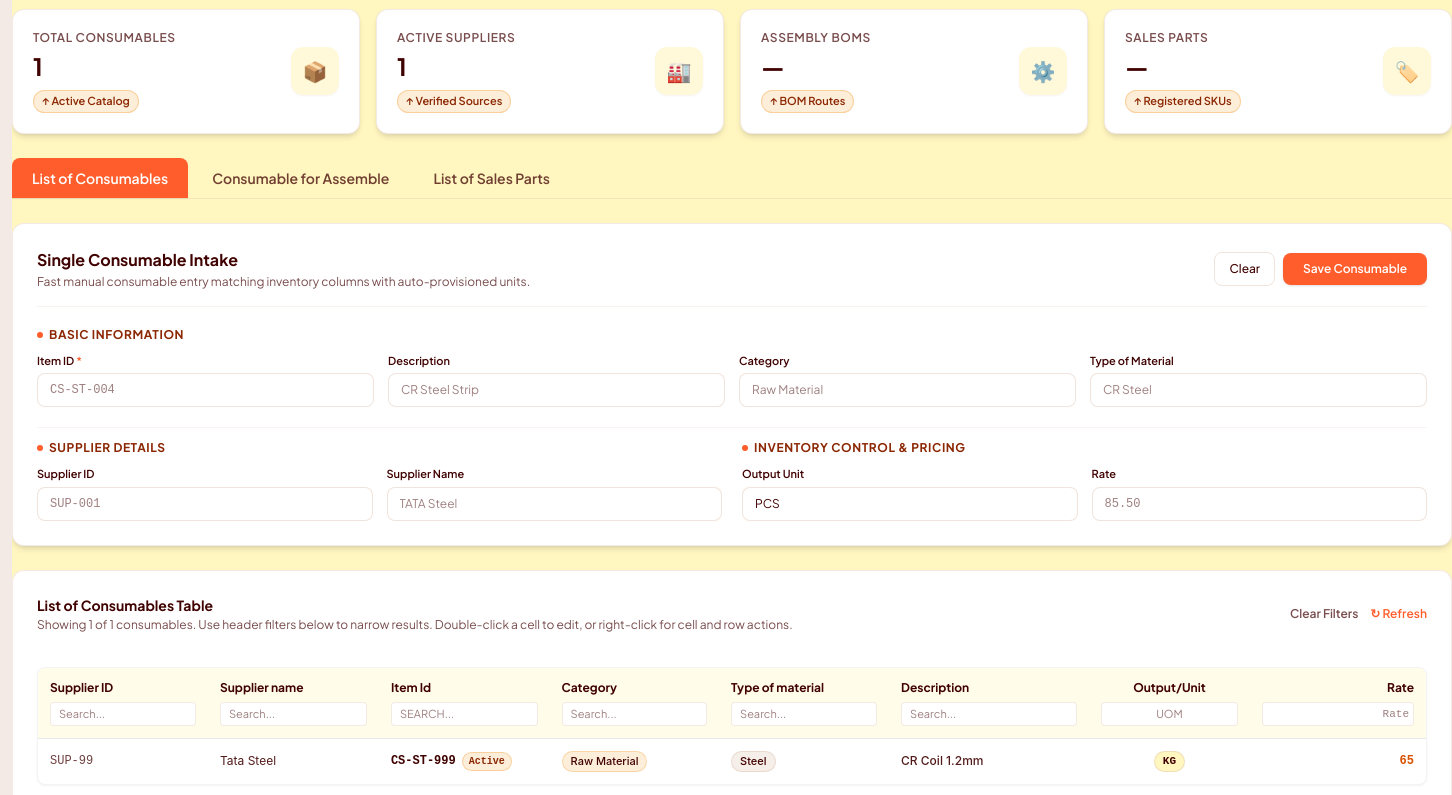
Test case: edit row stays in the consumables table and saves only the changed fields
(page scrolled)
Right-click the text "CS-ST-999" at (423, 762), box [391,754,456,770]
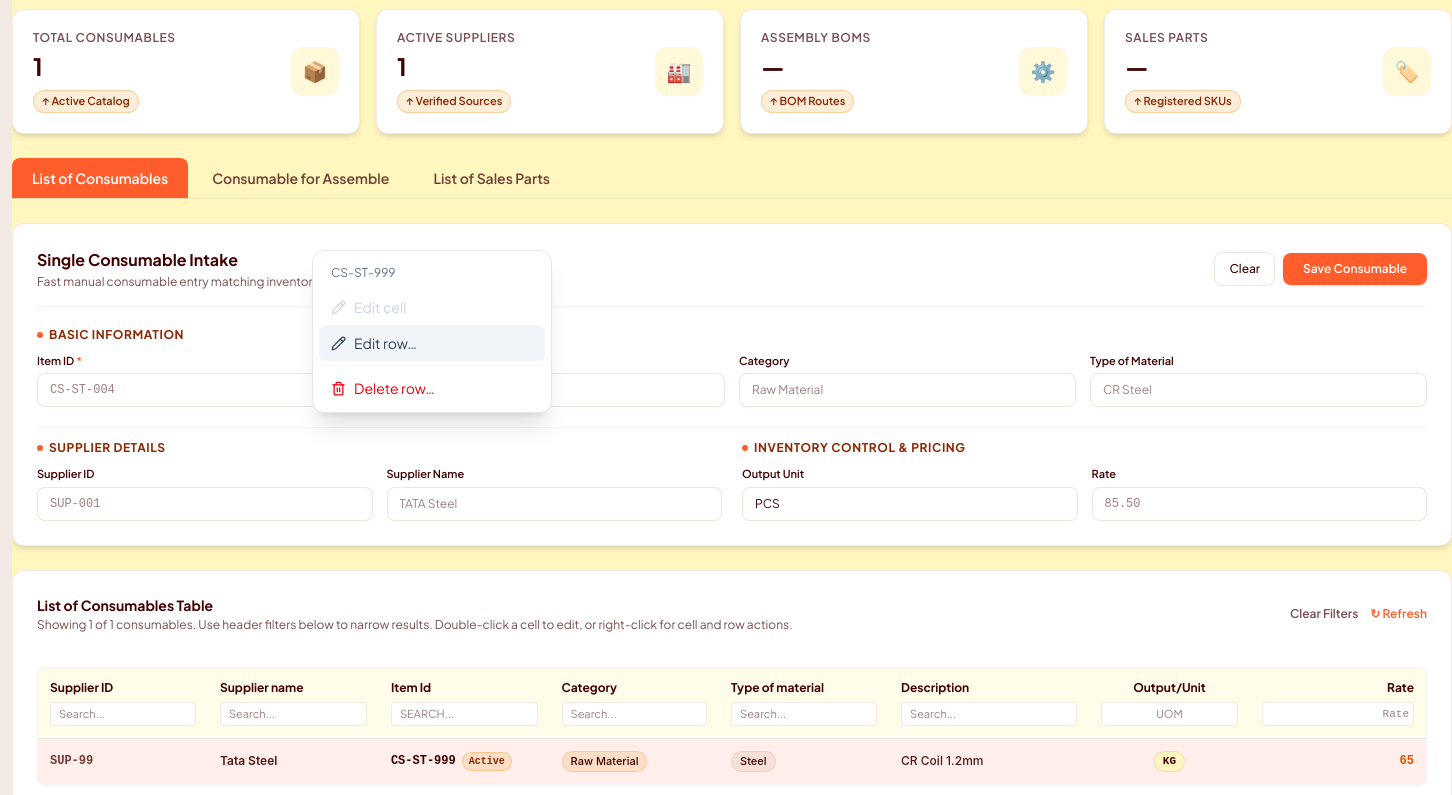
Click the menu item "Edit row…" at (432, 343), box [319,325,545,361]
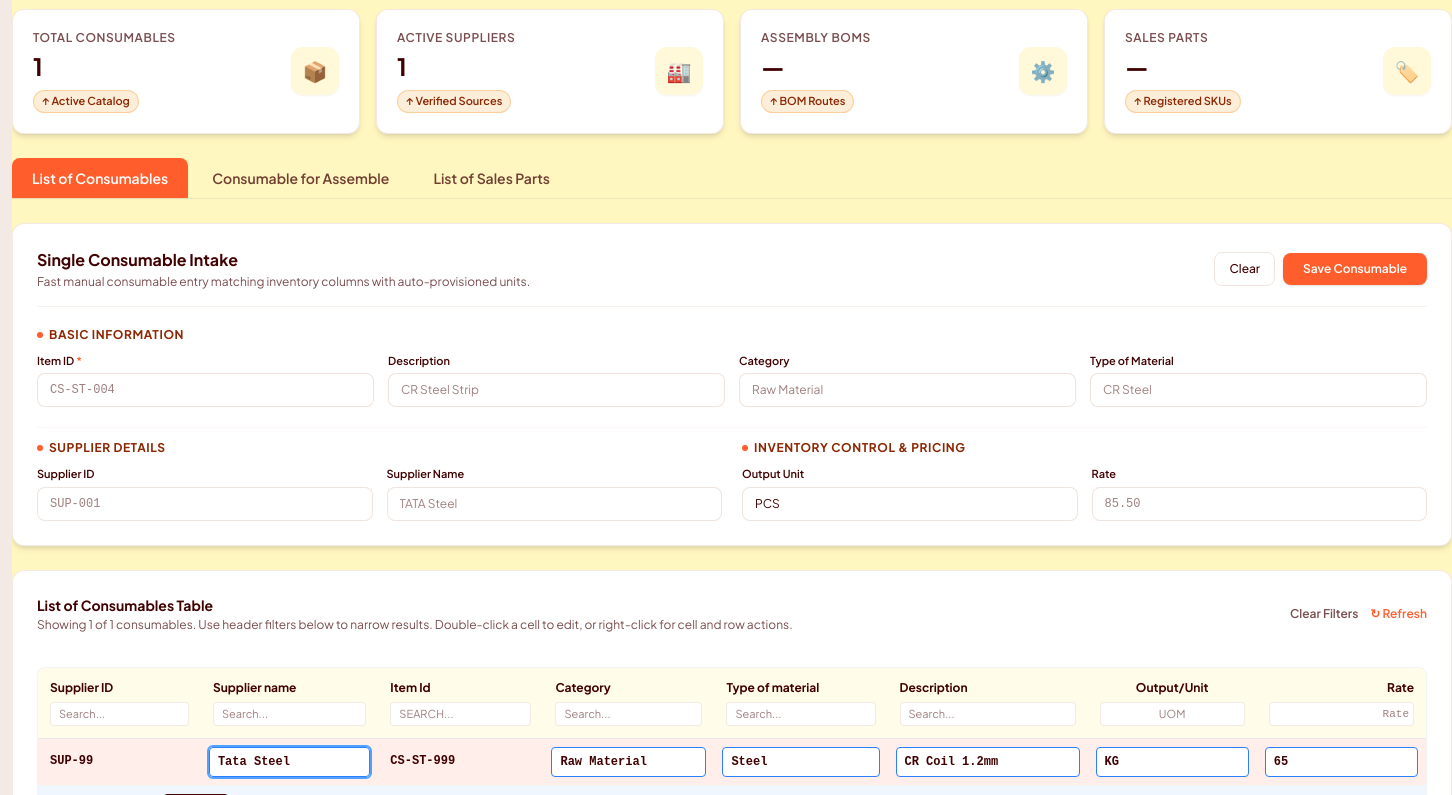
Expected: the row named "Edit Description" shows "CS-ST-999", [390,754,455,768]
Expected: the button "Save Consumable" is shown, [1283,252,1427,284]
Replace the text in the field named "Edit Description" with "Updated in this row" at (988, 762), box [896,747,1080,777]
(page scrolled)
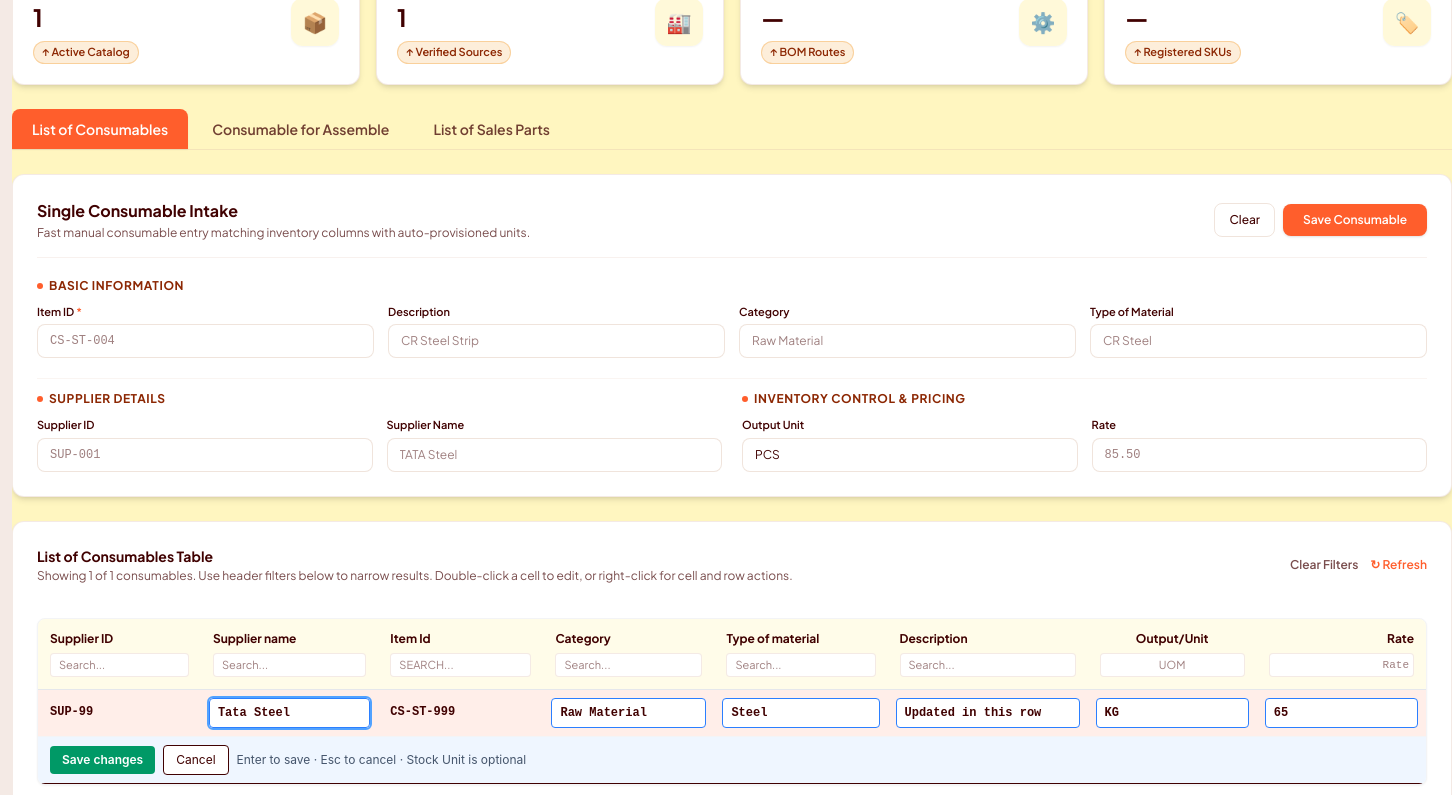
Click the button "Save changes" at (103, 760), box [50,746,155,774]
(page scrolled)
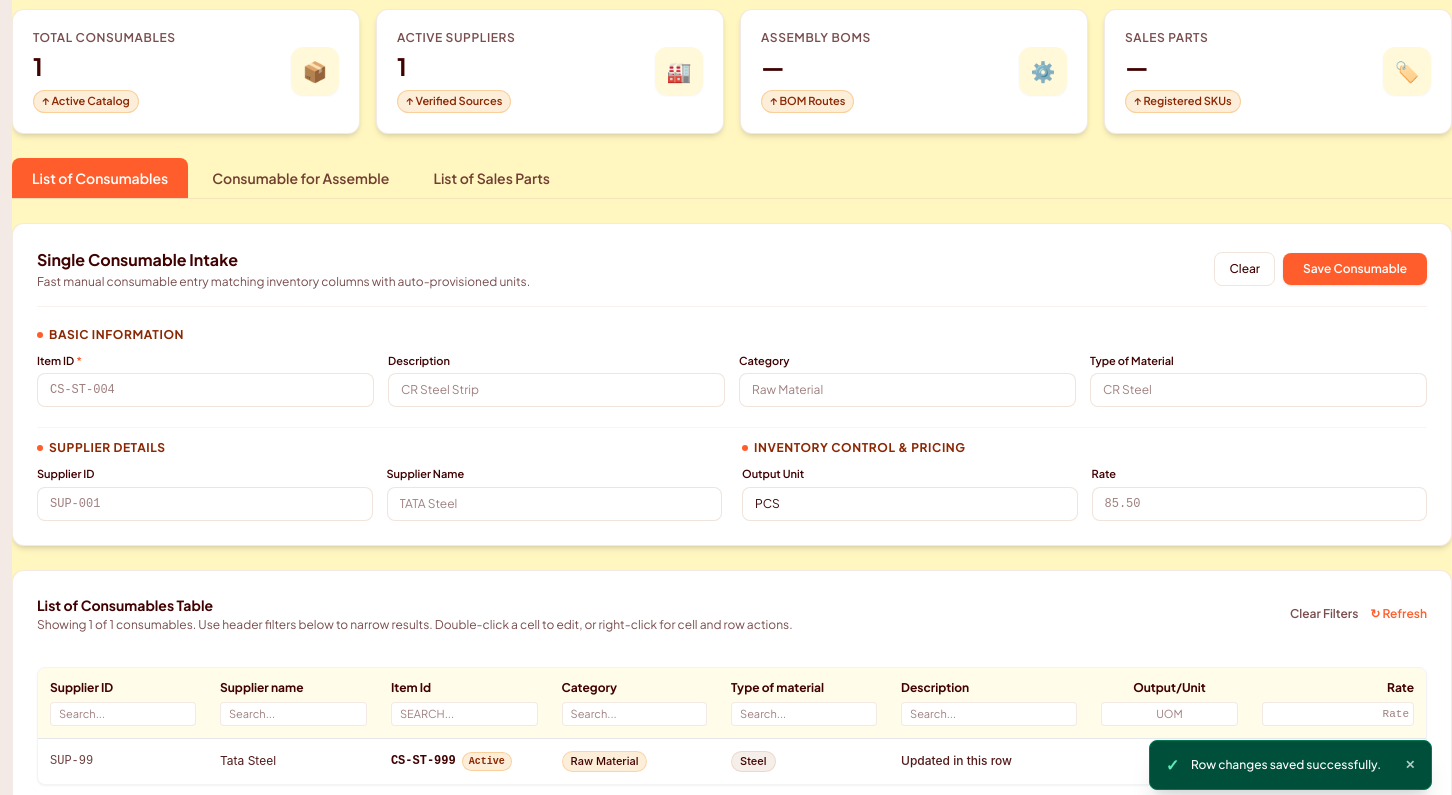
Expected: the text "Updated in this row" is shown, [889,739,1089,784]
